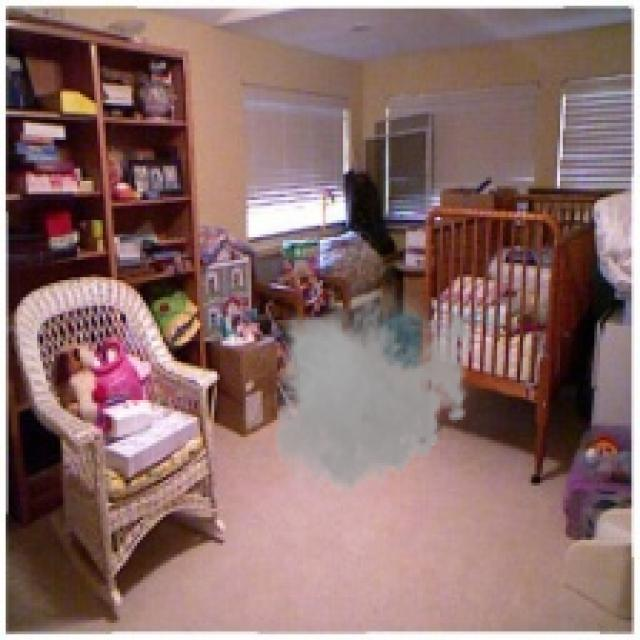Smoke: (266, 277, 480, 503)
